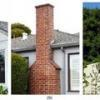chimneys: (34, 2, 56, 95)
